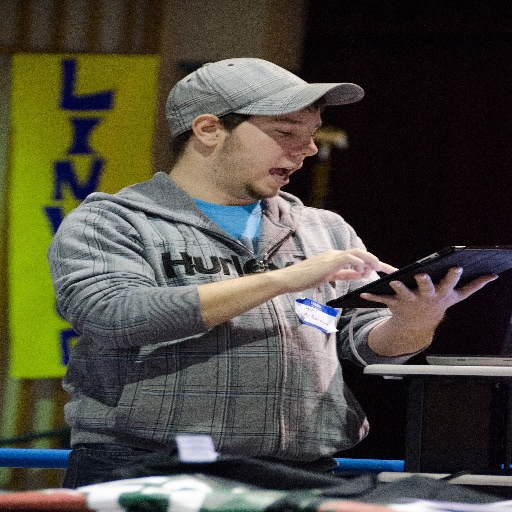hand: (337, 261, 493, 347), (278, 246, 401, 292)
